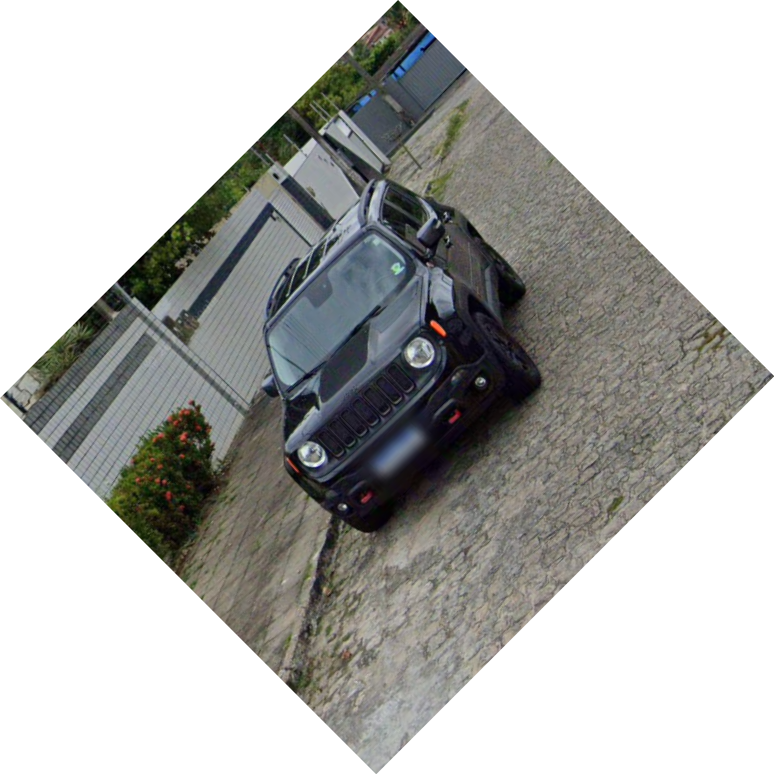car: (259, 175, 540, 535)
